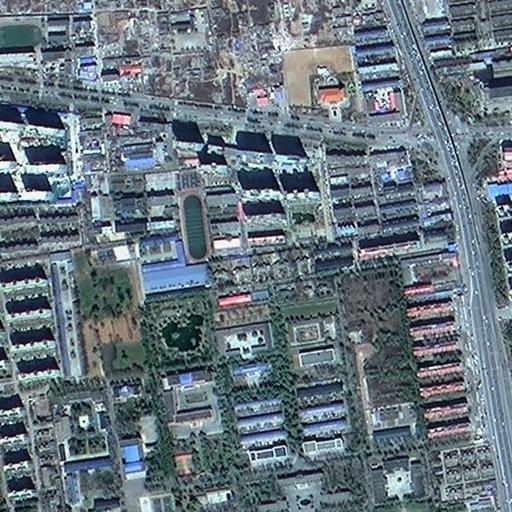school: (146, 168, 245, 263), (402, 251, 464, 293)
